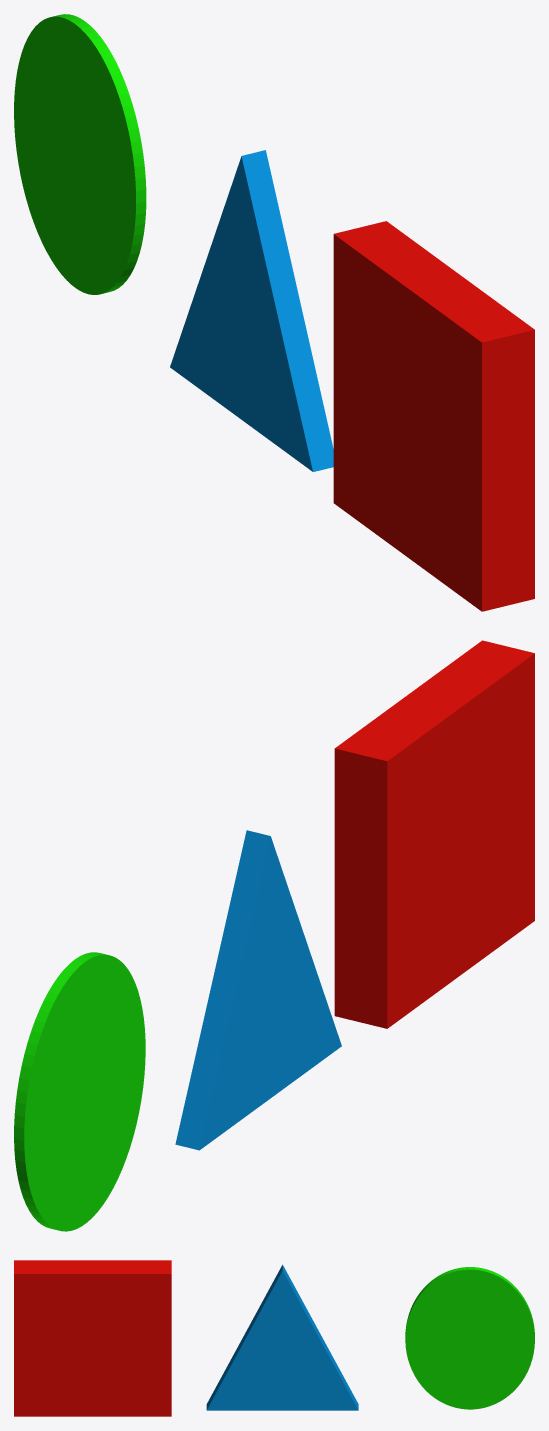
Rendered from Shapes.fbx.
3 renders of one model, top to bottom at view 1: azimuth 30°, elevation 25°; view 2: azimuth 150°, elevation 25°; view 3: azimuth 270°, elevation 25°, orthographic. The views are drawn at different scales.
Visible parts, largest first — view 1: Cube, Cylinder.001, Cylinder; view 2: Cube, Cylinder.001, Cylinder; view 3: Cube, Cylinder.001, Cylinder.
Part boxes in pixels (left/top/right/bottom): Cube: left=333, top=221, right=534, bottom=611; Cylinder.001: left=14, top=14, right=146, bottom=294; Cylinder: left=170, top=150, right=333, bottom=471; Cube: left=334, top=640, right=534, bottom=1028; Cylinder.001: left=14, top=952, right=145, bottom=1231; Cylinder: left=175, top=830, right=341, bottom=1150; Cube: left=14, top=1260, right=171, bottom=1416; Cylinder.001: left=405, top=1267, right=534, bottom=1409; Cylinder: left=206, top=1264, right=358, bottom=1410.
Size of the model in its own units: 41.17 by 200 by 661.
